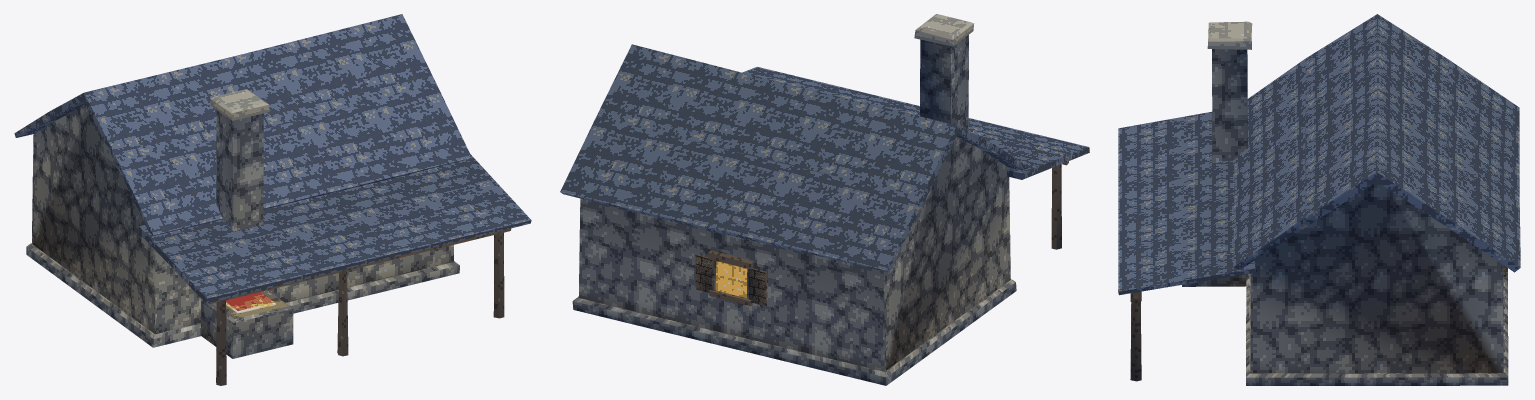
Rendered from vlg.smithy__doorway.glb.
3 views of the same model, side by side, from view 1: azimuth 30°, elevation 25°; view 2: azimuth 150°, elevation 25°; view 3: azimuth 270°, elevation 25° (orthographic). The views are drawn at different scales.
Visible parts, largest first — view 1: kit_roof, kit_walls, kit_stonework, kit_frame, kit_fittings; view 2: kit_roof, kit_walls, kit_stonework, kit_fittings, kit_frame; view 3: kit_roof, kit_walls, kit_stonework, kit_frame.
Boxes of the visible parts, x1,y1,x2,y2 form: kit_roof: (14, 14, 531, 303); kit_walls: (31, 104, 453, 334); kit_stonework: (26, 89, 459, 358); kit_frame: (211, 228, 511, 385); kit_fittings: (226, 292, 275, 313); kit_roof: (560, 44, 1089, 272); kit_walls: (578, 136, 1010, 371); kit_stonework: (572, 14, 1016, 385); kit_fittings: (695, 250, 766, 306); kit_frame: (1051, 161, 1068, 249); kit_roof: (1118, 14, 1520, 295); kit_walls: (1250, 182, 1503, 373); kit_stonework: (1182, 21, 1508, 385); kit_frame: (1130, 291, 1141, 381).
Size of the model in its own units: 7.63 by 5.26 by 7.94.
Materials: 8 (8 with a texture image).
